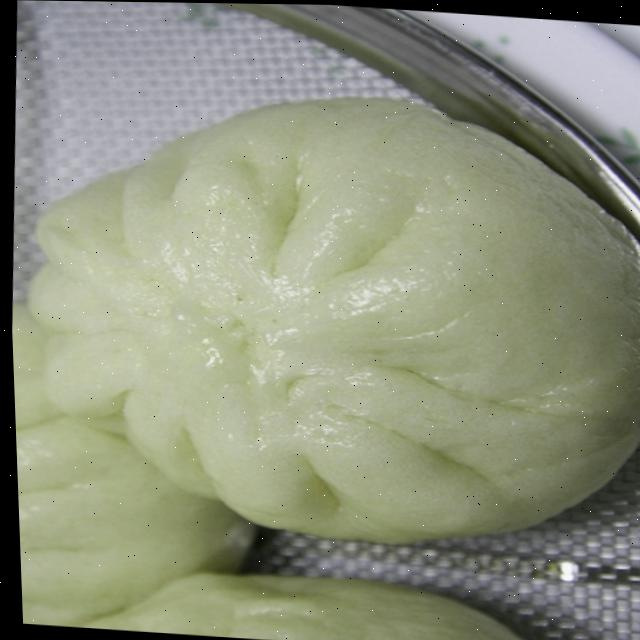带馅早点: (4, 42, 640, 589)
